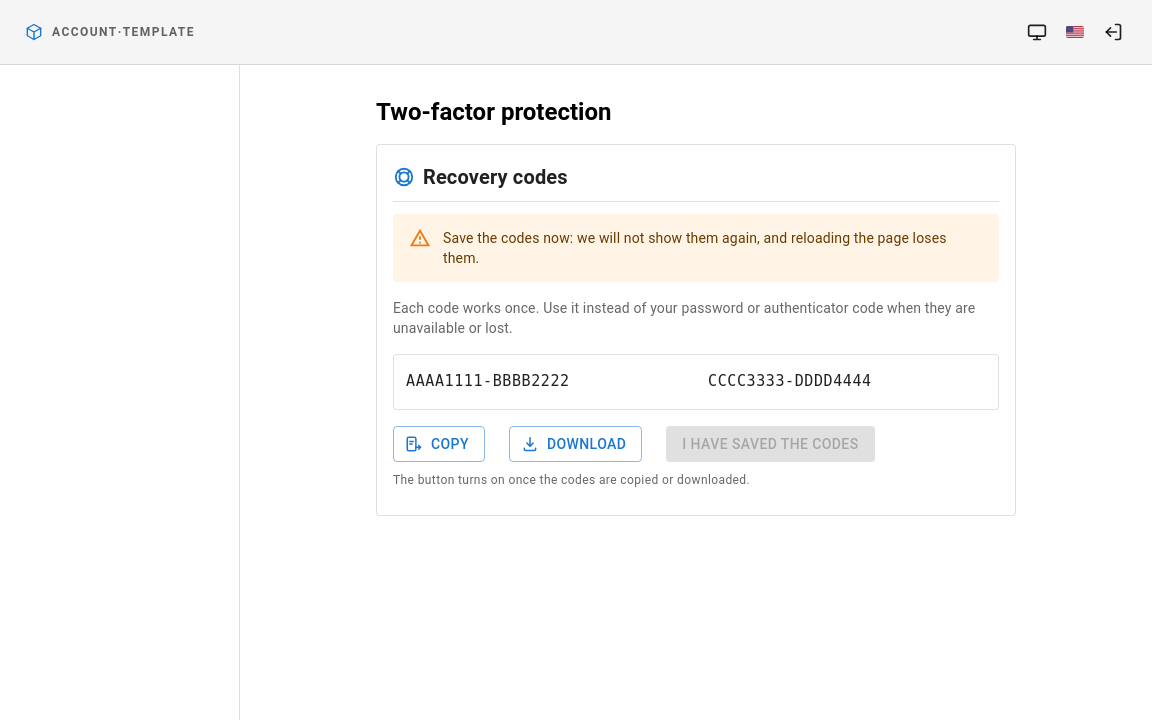
Test: RecoveryCodesPage › says out loud that the copy failed
This screenshot has width=1152, height=720.
What coordinates should you click on to do the following:
click the button "Copy"
I would click on:
 (439, 444)
Its box is x1=393 y1=426 x2=485 y2=462.
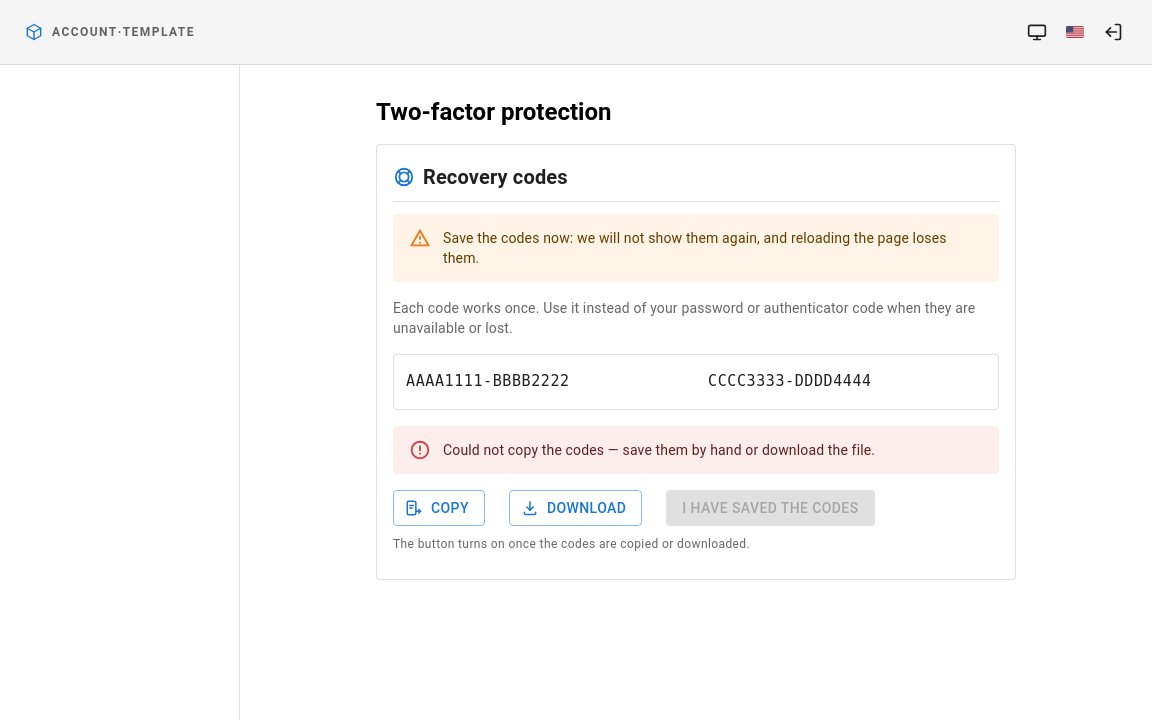
Check: the button "I have saved the codes" is disabled, box x1=666 y1=490 x2=874 y2=526
Check: the text "Could not copy the codes — save them by hand or download the file." is shown, box x1=443 y1=442 x2=875 y2=458
